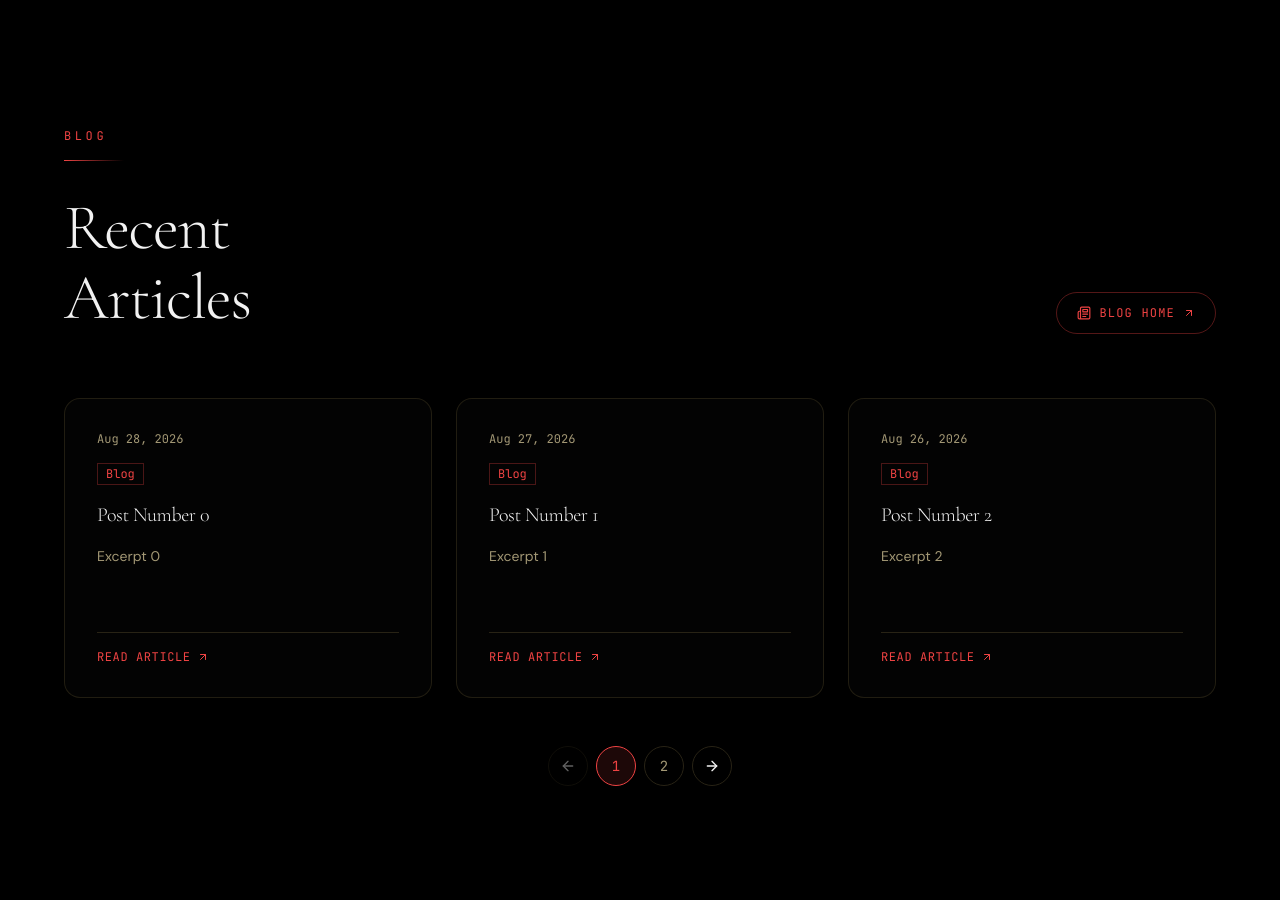
Test: Articles › paginates 3 posts per page, revealing the rest on later pages
Expected: the link with aria-label "open article: post number 0" is shown, [97,503,209,527]
Expected: the link with aria-label "open article: post number 2" is shown, [881,503,992,527]
Note: Page 2 reveals the remaining 2.
Click the button named "page 2" at (664, 766), box [644,746,684,786]
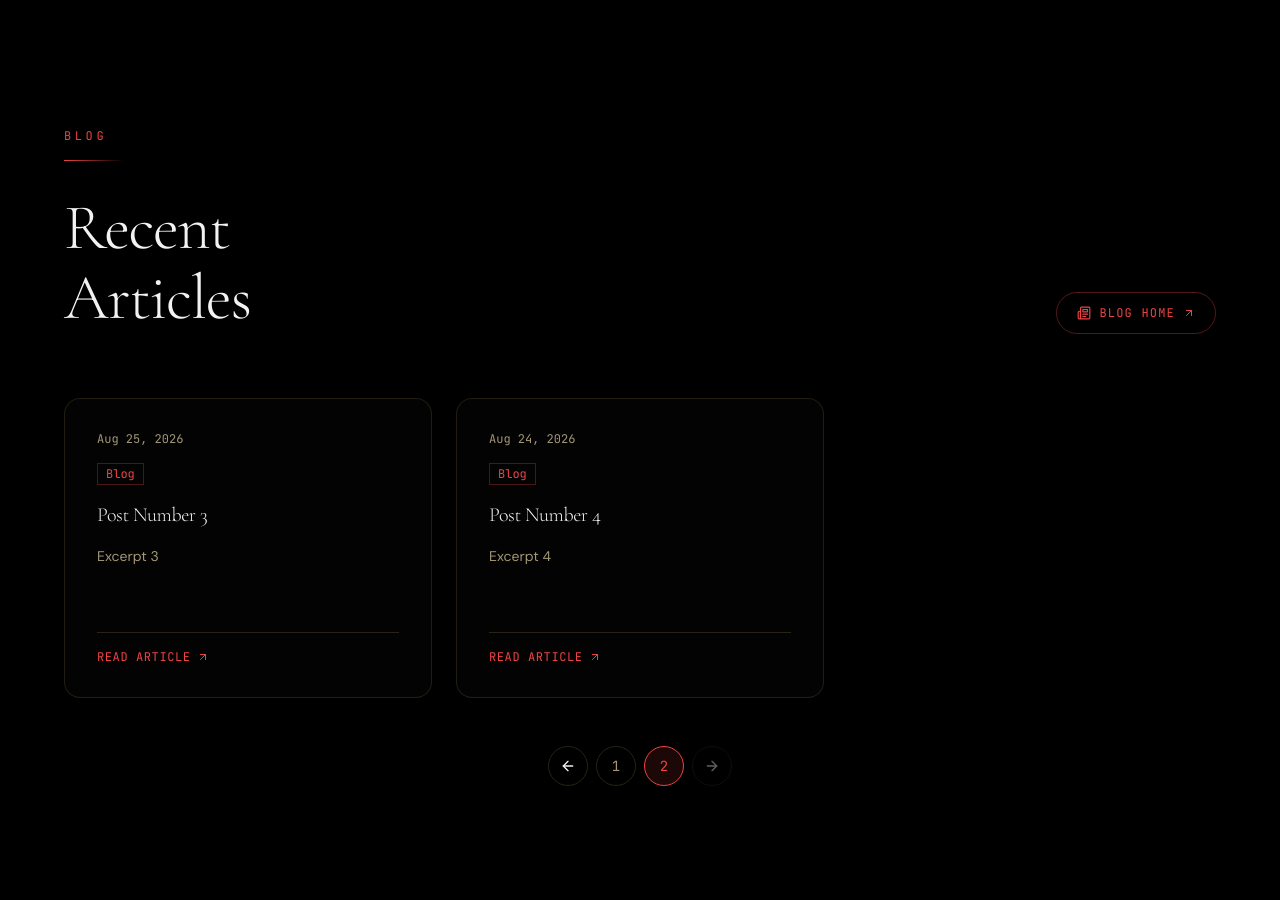
Now the link with aria-label "open article: post number 3" is shown, box [97,503,207,527]
Now the link with aria-label "open article: post number 4" is shown, box [489,503,600,527]
